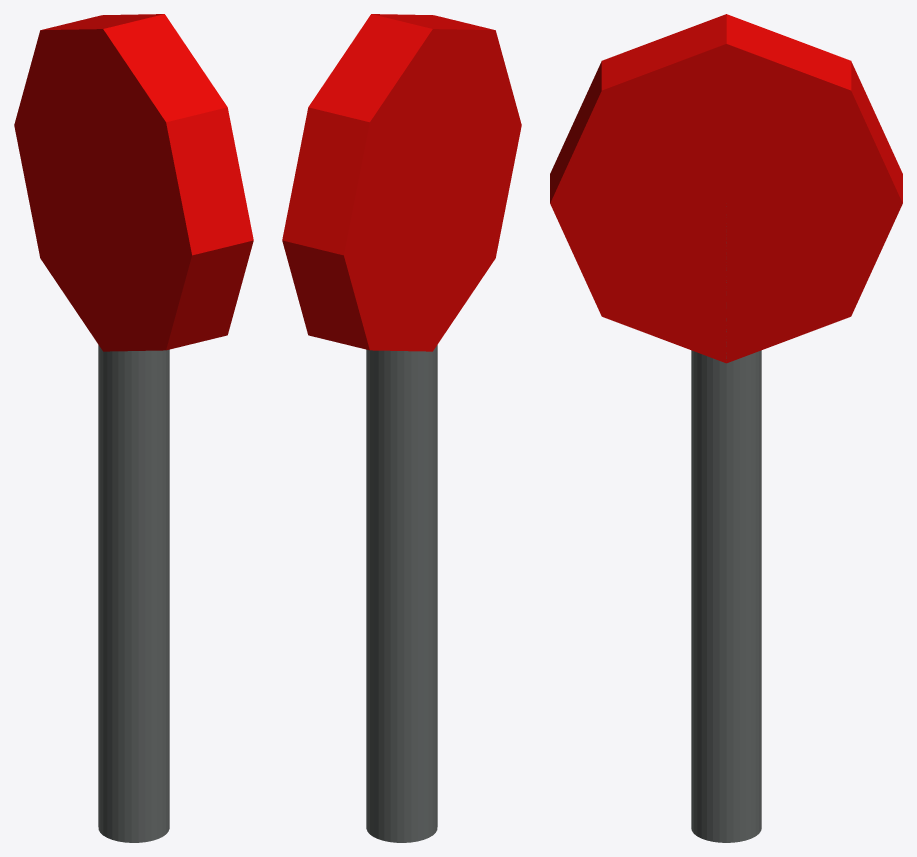
File: stopsign.fbx
3 renders of one model, left to right at view 1: azimuth 30°, elevation 25°; view 2: azimuth 150°, elevation 25°; view 3: azimuth 270°, elevation 25°, orthographic.
Visible parts, largest first — view 1: Cylinder.001; view 2: Cylinder.001; view 3: Cylinder.001.
Boxes of the visible parts, bbox=[...] form: Cylinder.001: bbox=[14, 14, 253, 842]; Cylinder.001: bbox=[282, 14, 521, 842]; Cylinder.001: bbox=[550, 14, 902, 842].
Bounding box in the file's own units: 10 × 125 × 50.
